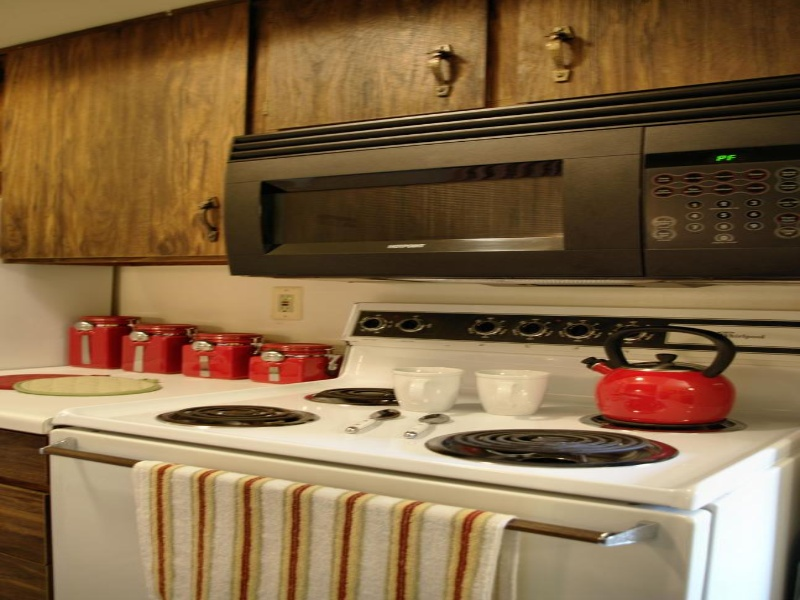oven: (53, 415, 790, 600)
